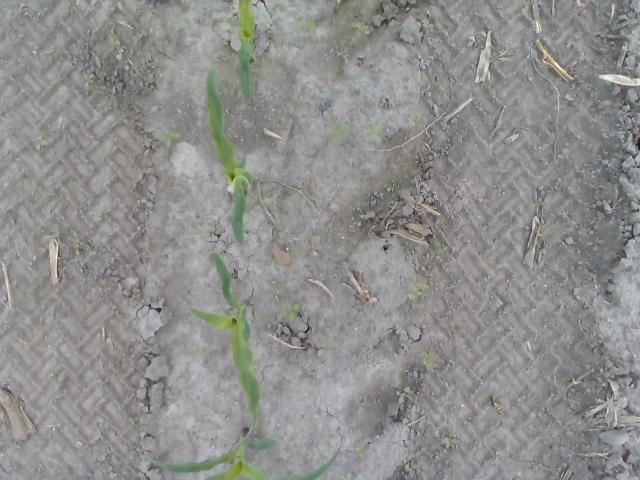Maize: (175, 252, 261, 456), (150, 435, 343, 480), (207, 66, 254, 246), (236, 2, 262, 103)
Weeds: (326, 121, 351, 144), (159, 130, 181, 152), (279, 302, 301, 322), (365, 121, 384, 144), (407, 283, 429, 302), (398, 388, 414, 408), (354, 20, 371, 38), (297, 20, 315, 34), (412, 115, 428, 130), (419, 352, 434, 368), (442, 436, 462, 448), (112, 28, 124, 47), (533, 151, 550, 164), (54, 374, 66, 392), (82, 75, 96, 88), (435, 238, 446, 252), (322, 337, 334, 349), (34, 139, 46, 151), (404, 461, 418, 470), (138, 168, 147, 182), (74, 242, 83, 256), (176, 24, 187, 34), (90, 212, 102, 221), (198, 348, 207, 359), (124, 420, 136, 428), (354, 449, 364, 458), (52, 232, 62, 240), (192, 82, 200, 90)
